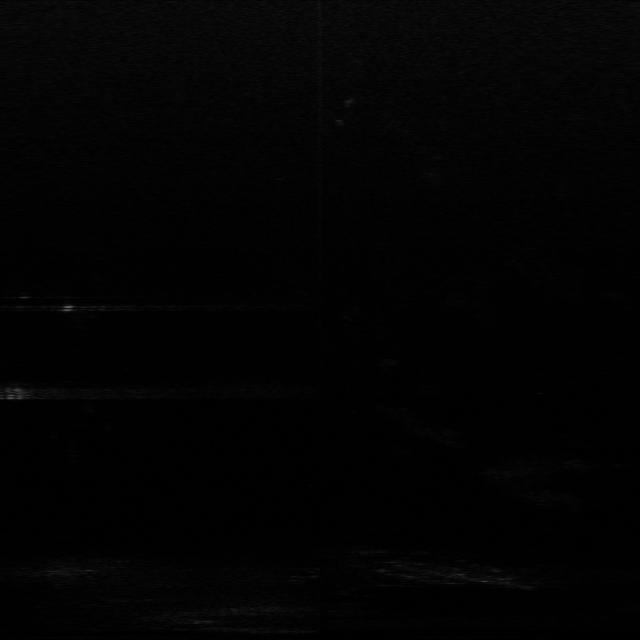rov: (0, 384, 32, 404)
